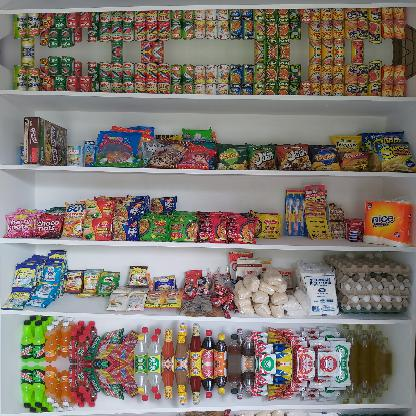Koko-Krunch: (24, 116, 66, 166)
